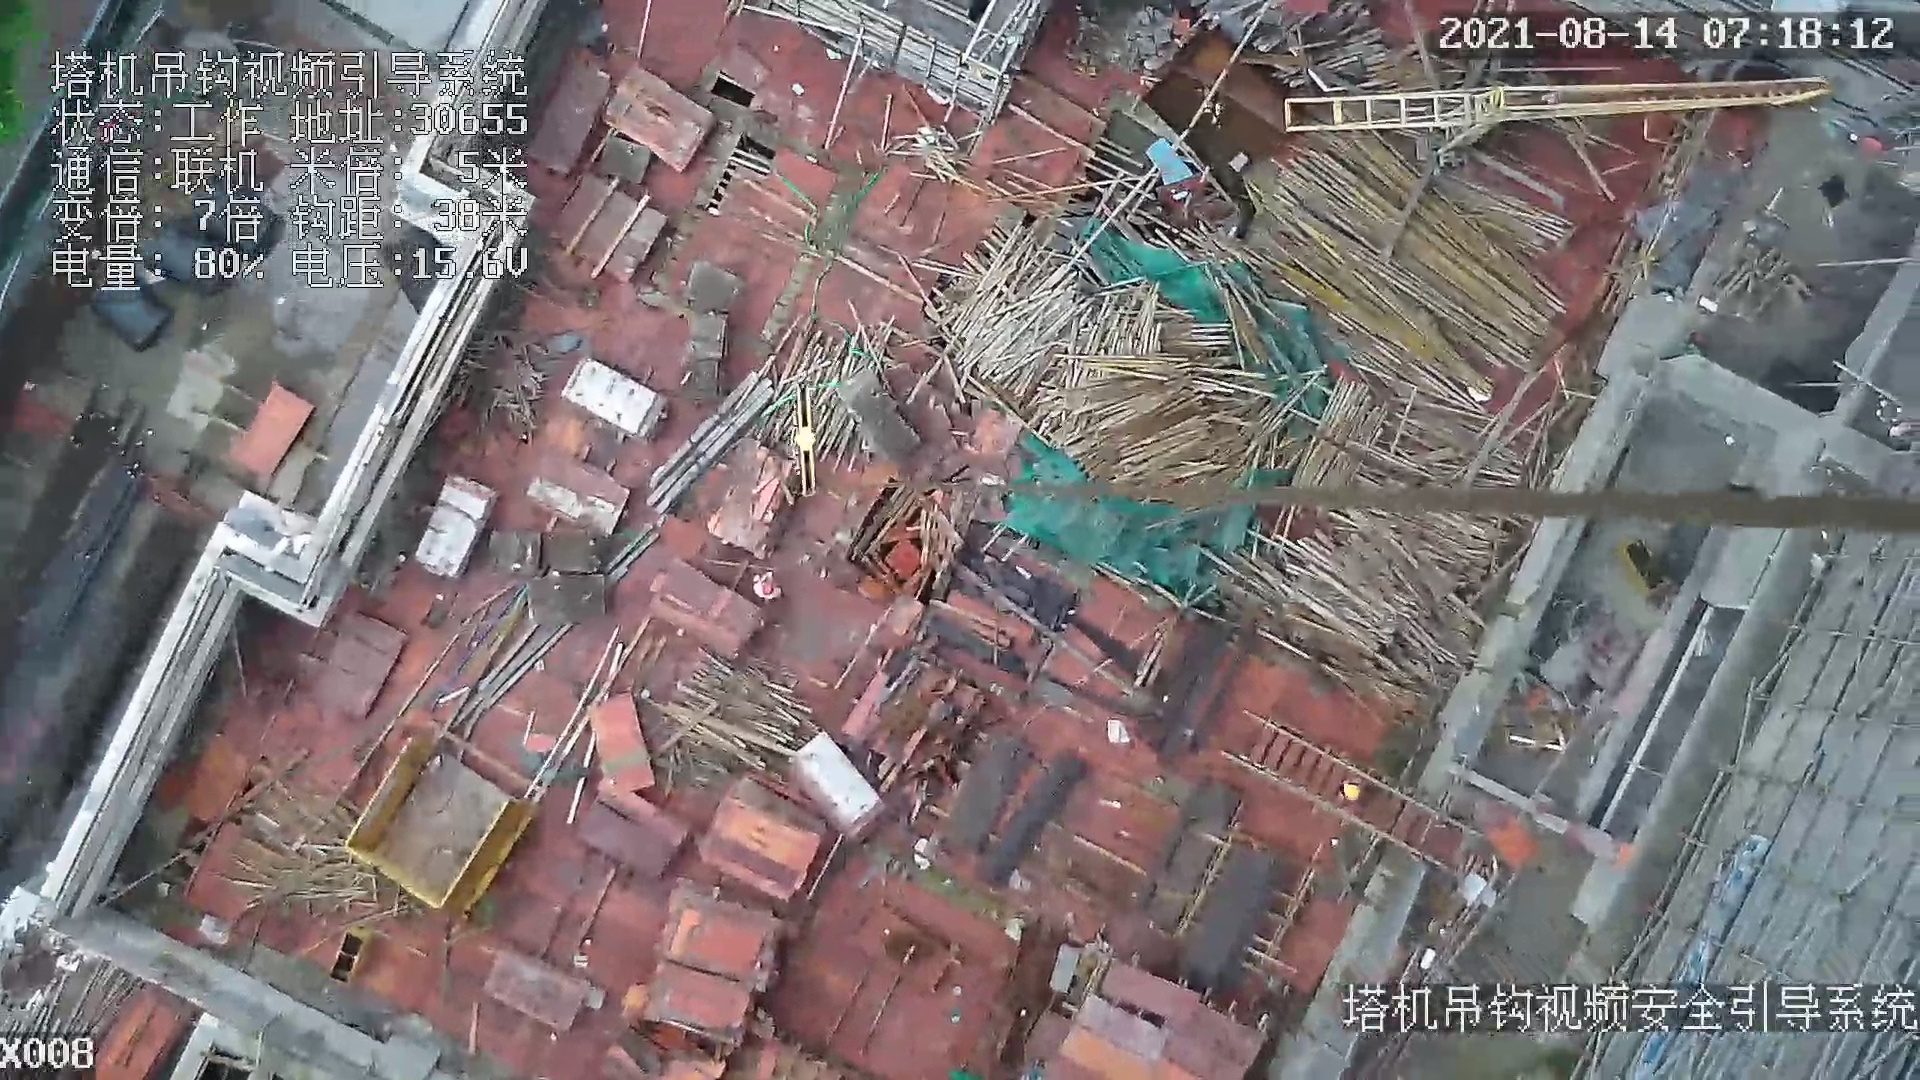helmet: (760, 582, 774, 597)
hook: (777, 372, 826, 504)
person: (750, 564, 786, 603)
